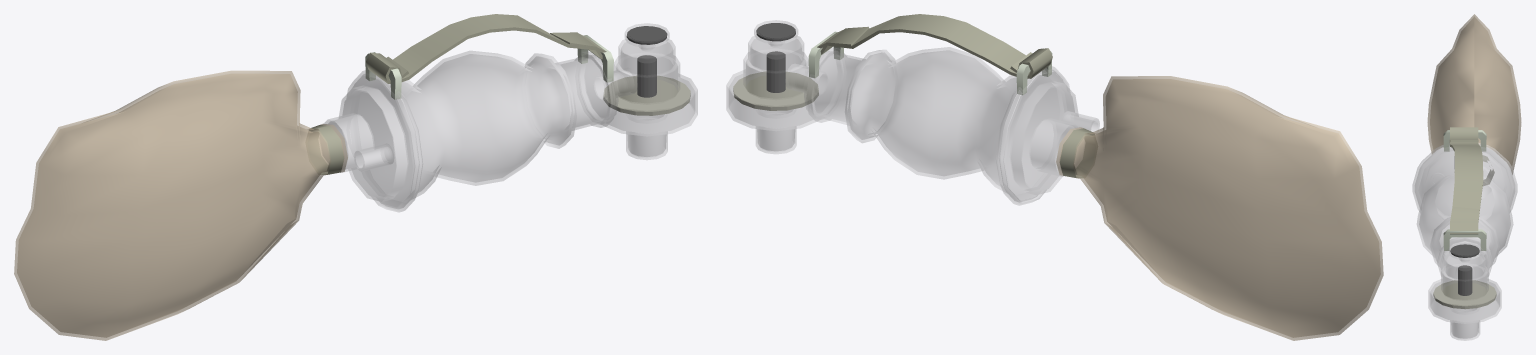
Rendered from BolsaAuto.fbx.
3 renders of one model, left to right at view 1: azimuth 30°, elevation 25°; view 2: azimuth 150°, elevation 25°; view 3: azimuth 270°, elevation 25°, orthographic. The views are drawn at different scales.
Visible parts, largest first — view 1: BolsaAuto; view 2: BolsaAuto; view 3: BolsaAuto.
Boxes of the visible parts, x1,y1,x2,y2 form: BolsaAuto: (14,14,697,340); BolsaAuto: (726,14,1383,340); BolsaAuto: (1412,14,1521,340).
Bounding box in the file's own units: 43.58 × 15.11 × 8.53.
